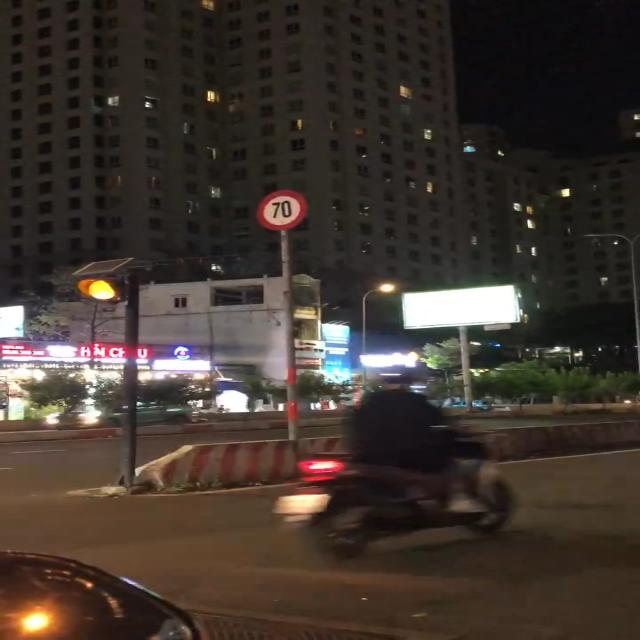Bien bao toc do toi da cho phep: (250, 188, 320, 231)
